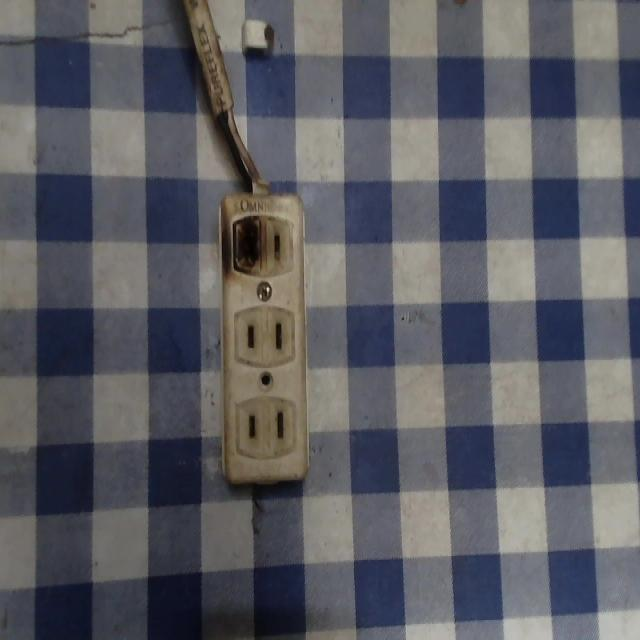-: (219, 208, 266, 283)
